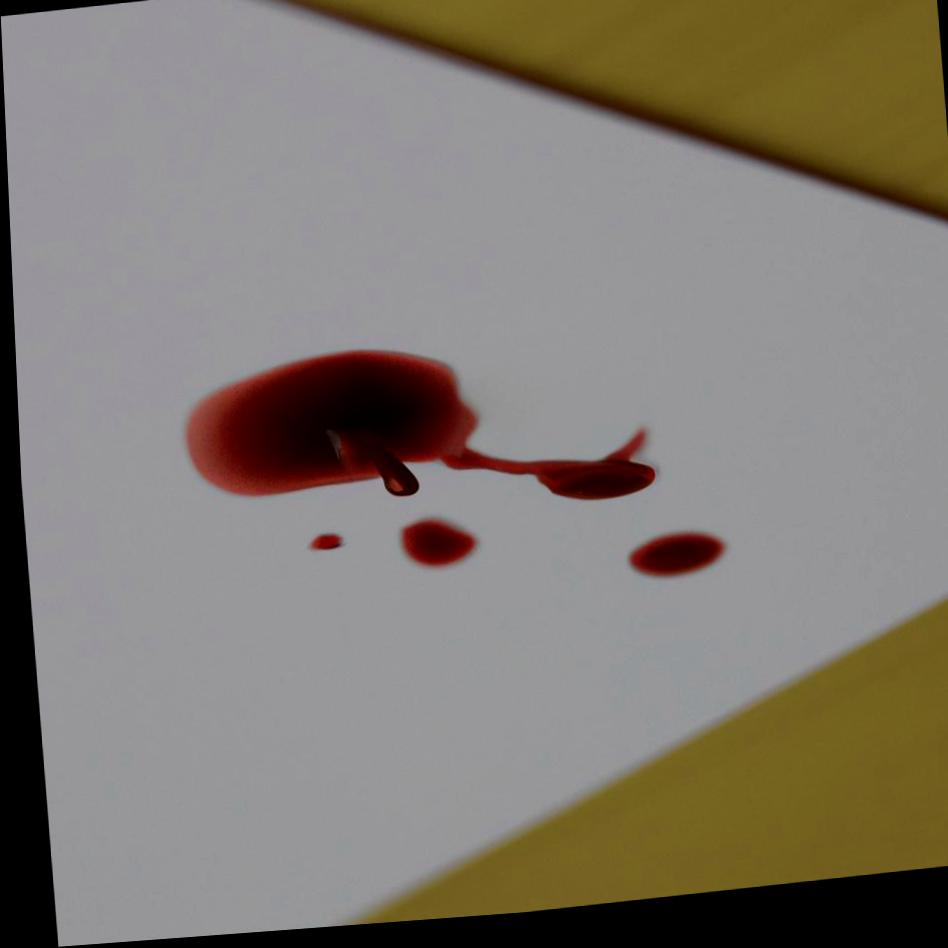Fire: (182, 355, 652, 510), (623, 543, 721, 588), (397, 525, 472, 574), (304, 538, 338, 556)
